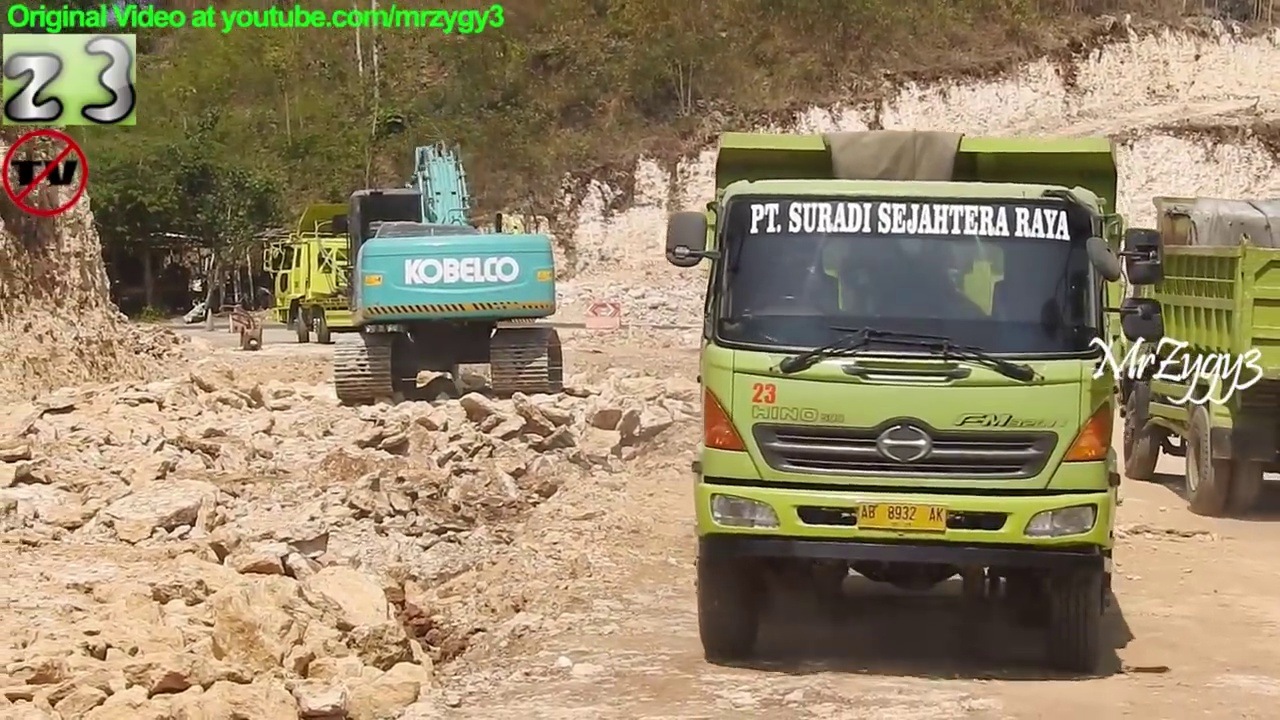excavator: (329, 136, 569, 405)
truck: (668, 127, 1172, 683), (1106, 192, 1280, 522), (258, 198, 547, 347)
